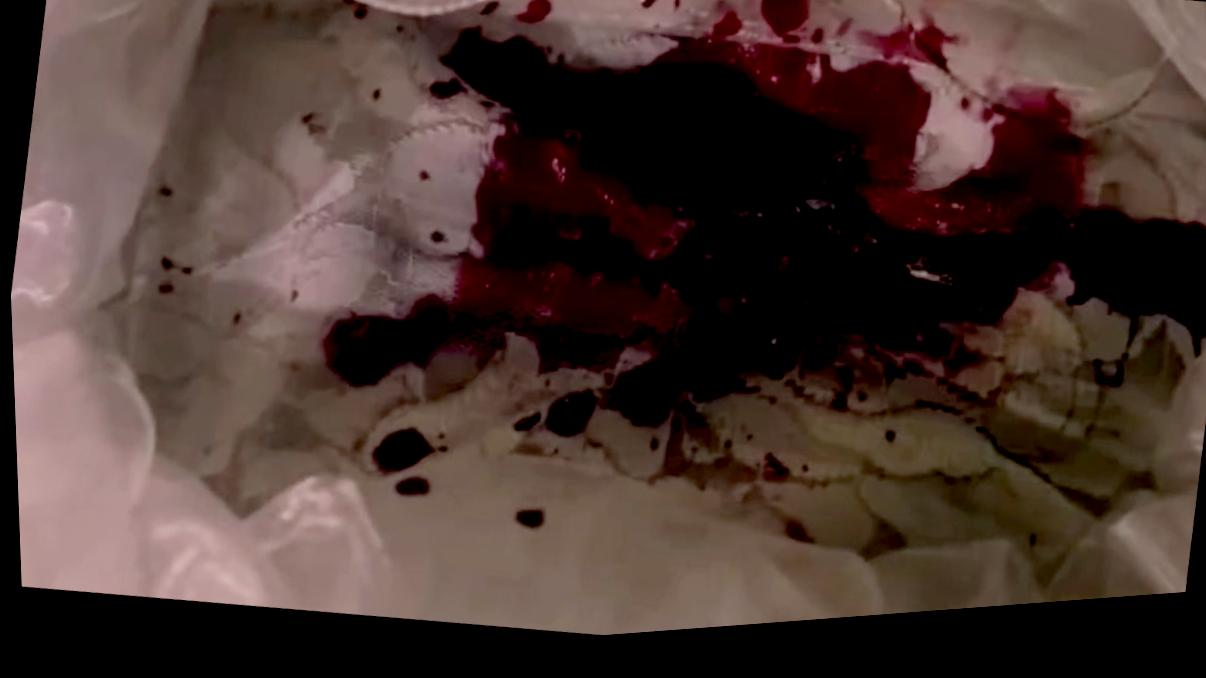Fire: (105, 0, 1206, 644)
